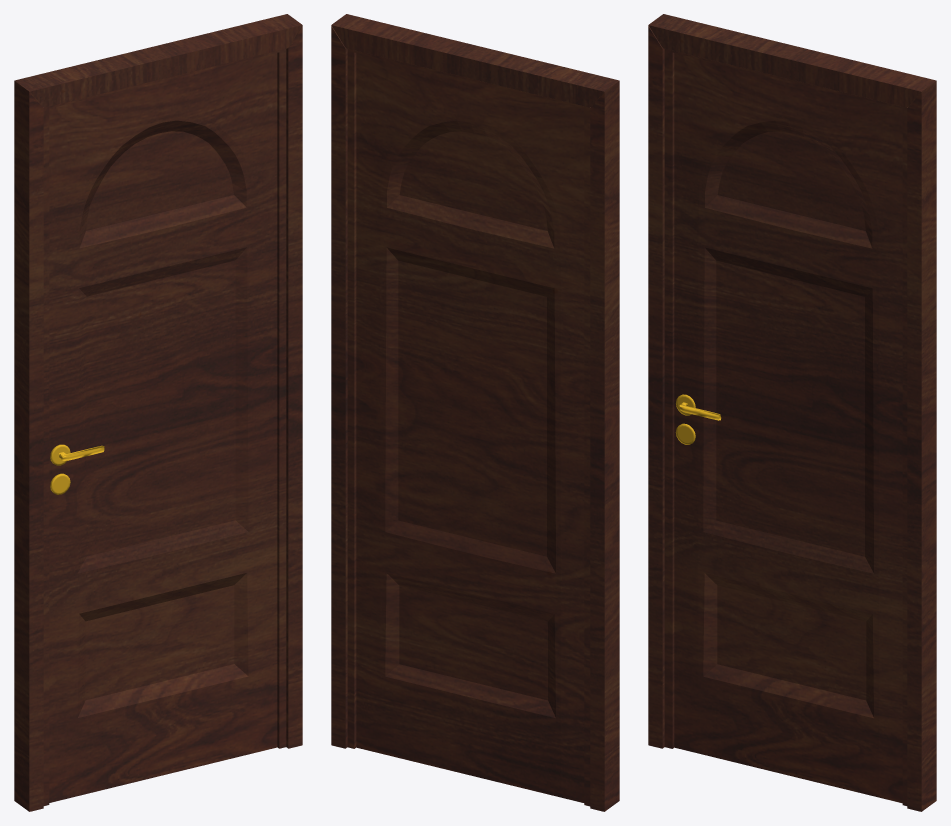
The model's file is PUERTA57_LONDON.glb.
3 renders of one model, left to right at view 1: azimuth 30°, elevation 25°; view 2: azimuth 150°, elevation 25°; view 3: azimuth 330°, elevation 25°, orthographic.
Visible parts, largest first — view 1: Puerta57_LONDON, Puerta57_Marco, Puerta57_Cerradura; view 2: Puerta57_LONDON, Puerta57_Marco; view 3: Puerta57_LONDON, Puerta57_Marco, Puerta57_Cerradura.
Boxes of the visible parts, bbox=[...] form: Puerta57_LONDON: bbox=[43, 49, 286, 805]; Puerta57_Marco: bbox=[14, 14, 302, 811]; Puerta57_Cerradura: bbox=[50, 444, 104, 494]; Puerta57_LONDON: bbox=[347, 49, 590, 806]; Puerta57_Marco: bbox=[331, 14, 619, 811]; Puerta57_LONDON: bbox=[664, 49, 907, 805]; Puerta57_Marco: bbox=[648, 14, 936, 811]; Puerta57_Cerradura: bbox=[675, 394, 721, 444].
Bounding box in the file's own units: 769 × 1936 × 85.
Materials: 2 (1 with a texture image).
